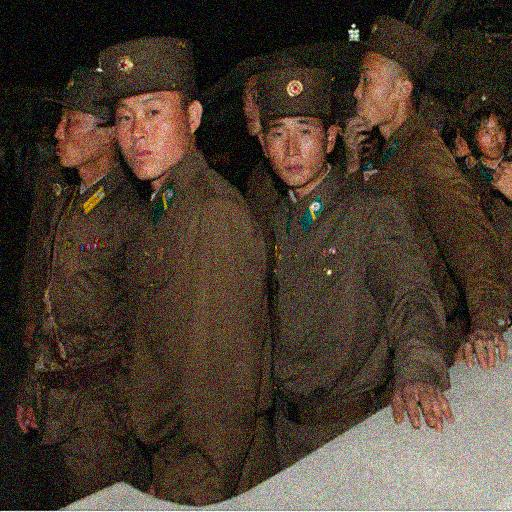north army: (24, 38, 485, 456)
